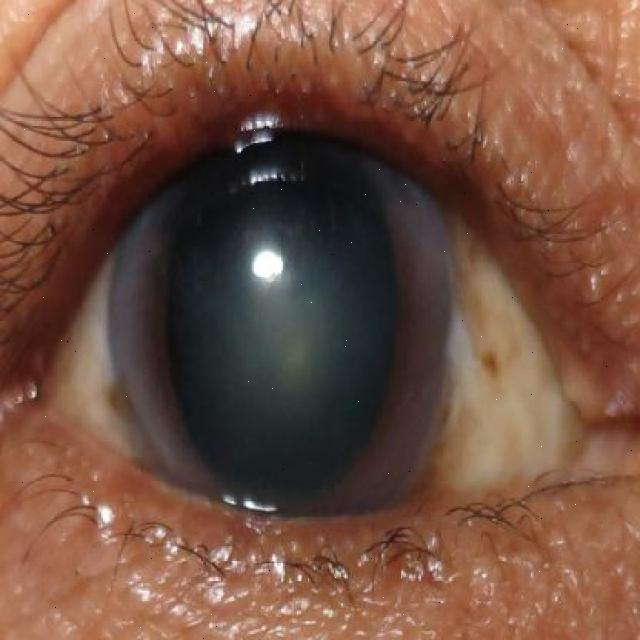Cataract: (106, 94, 452, 546)
